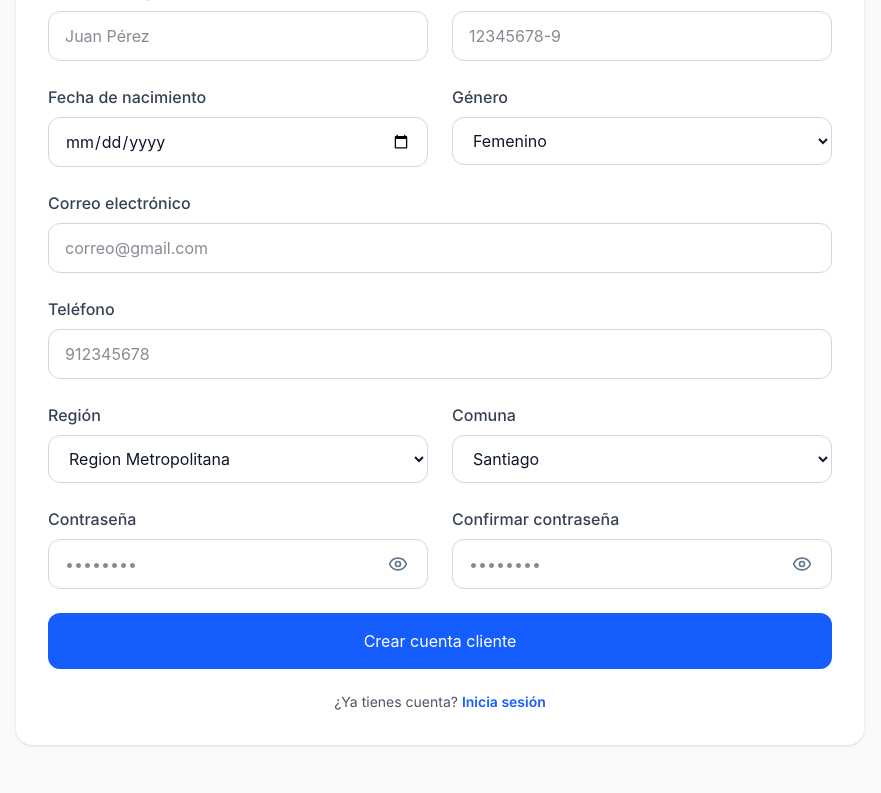
Test: Register › CP-REG-002 valida campos obligatorios antes de enviar al backend
(page scrolled)
Click the button "Crear cuenta cliente". click: (440, 641)
box: [48,613,832,669]
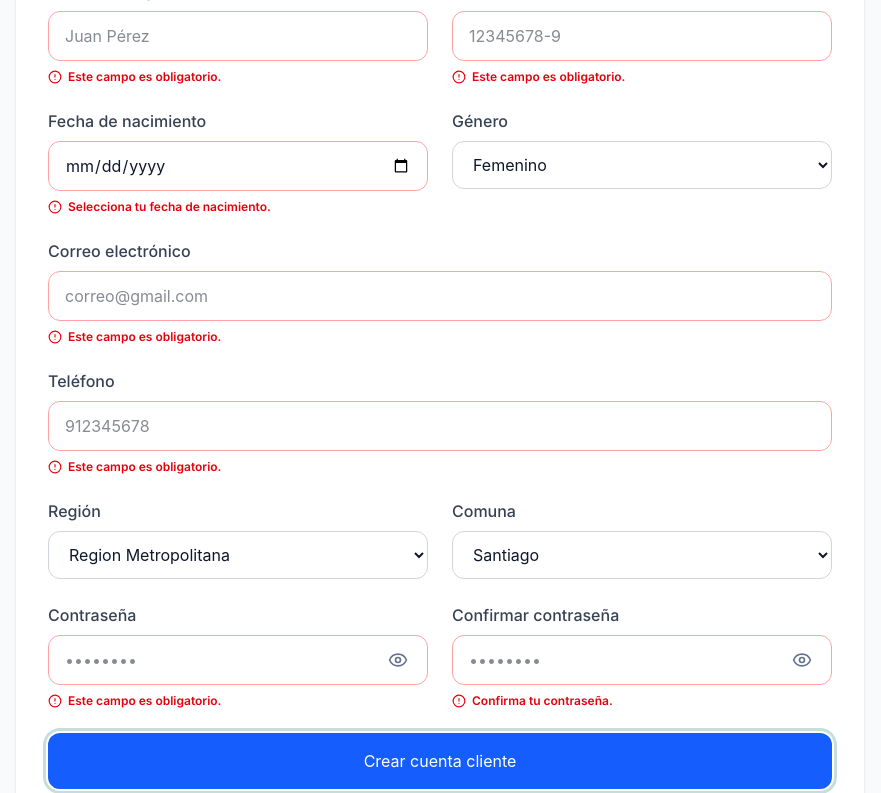
Now the text "Selecciona tu fecha de nacimiento." is shown, box [48,199,271,214]
Now the text "Confirma tu contraseña." is shown, box [452,693,613,708]
Now the text "Este campo es obligatorio." below "Nombre completo" is shown, box [68,69,222,84]
